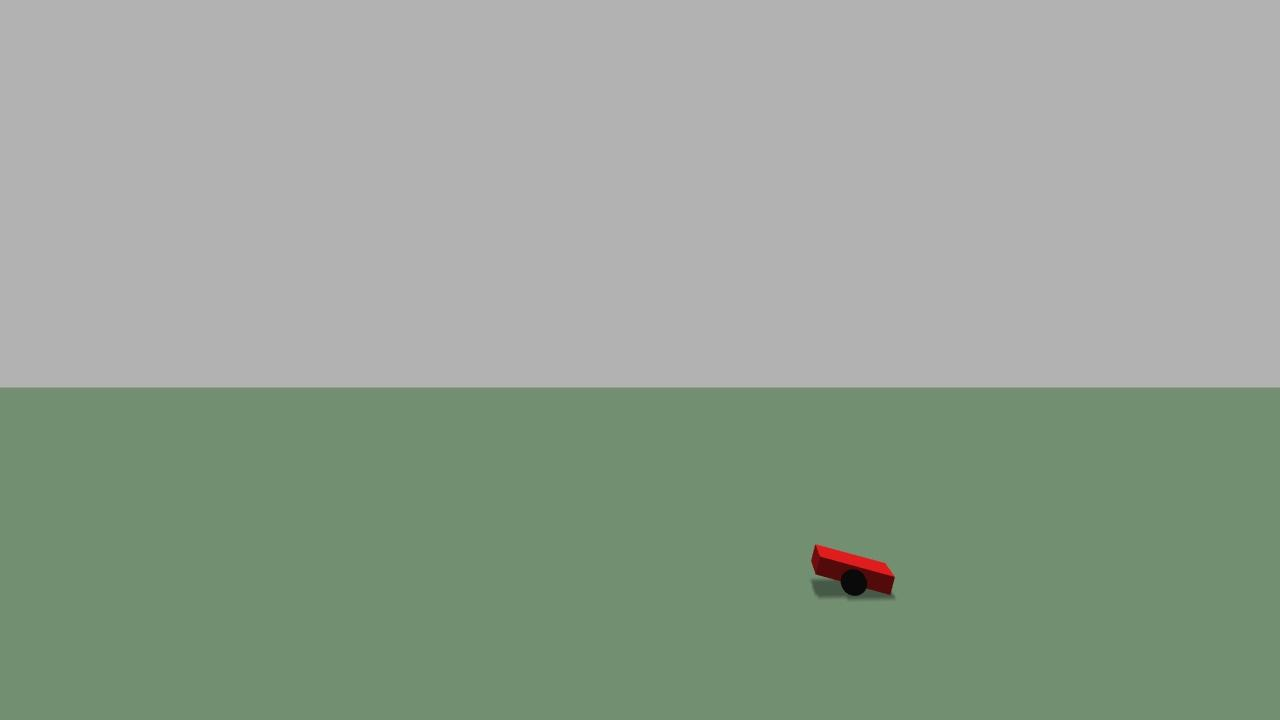ground_vehicle: (805, 525, 903, 605)
